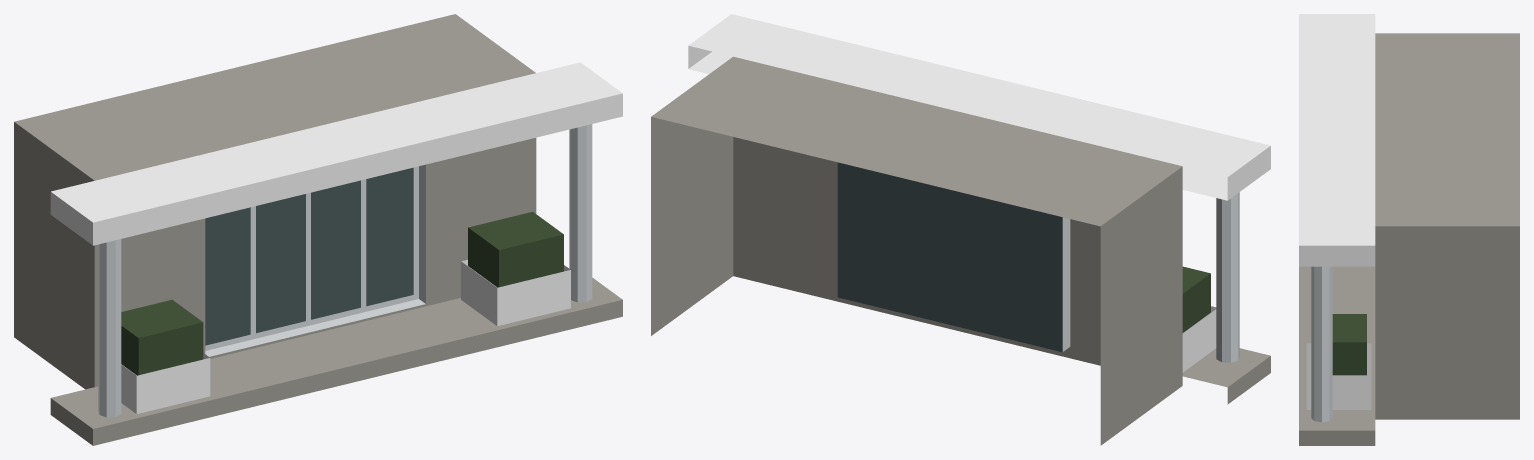
The model's file is entrance.fbx.
3 views of the same model, side by side, from view 1: azimuth 30°, elevation 25°; view 2: azimuth 150°, elevation 25°; view 3: azimuth 270°, elevation 25° (orthographic). The views are drawn at different scales.
Parts seen in each view (by area): view 1: a2007/250/entrance; view 2: a2007/250/entrance; view 3: a2007/250/entrance.
Part boxes in pixels (bbox=[...]): a2007/250/entrance: bbox=[14, 14, 622, 445]; a2007/250/entrance: bbox=[651, 14, 1270, 445]; a2007/250/entrance: bbox=[1299, 14, 1519, 445].
Size of the model in its own units: 7.2 by 2.9 by 2.9.
